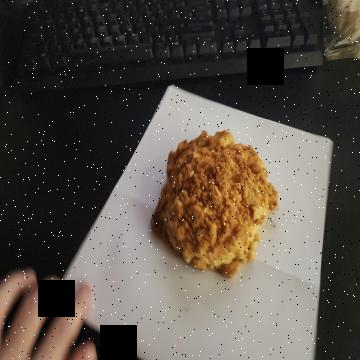soboru_bread: (152, 131, 278, 280)
